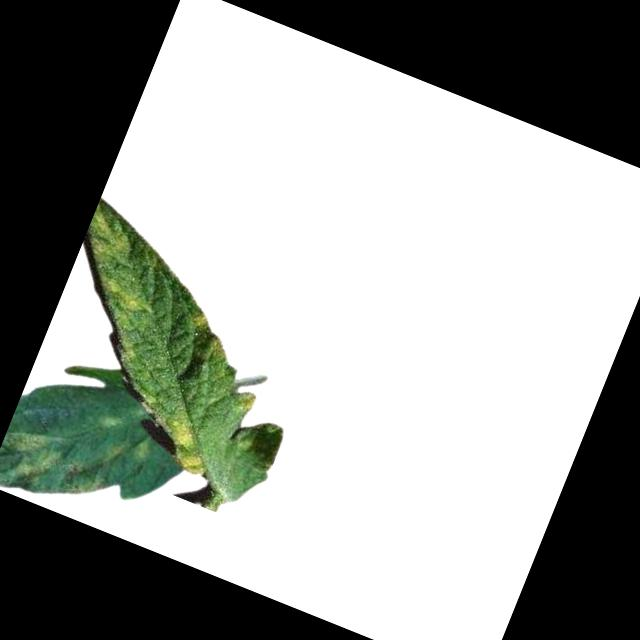Leaf_Mold: (1, 420, 70, 506), (156, 415, 222, 481), (89, 271, 153, 318), (234, 387, 261, 415), (186, 307, 212, 330)
